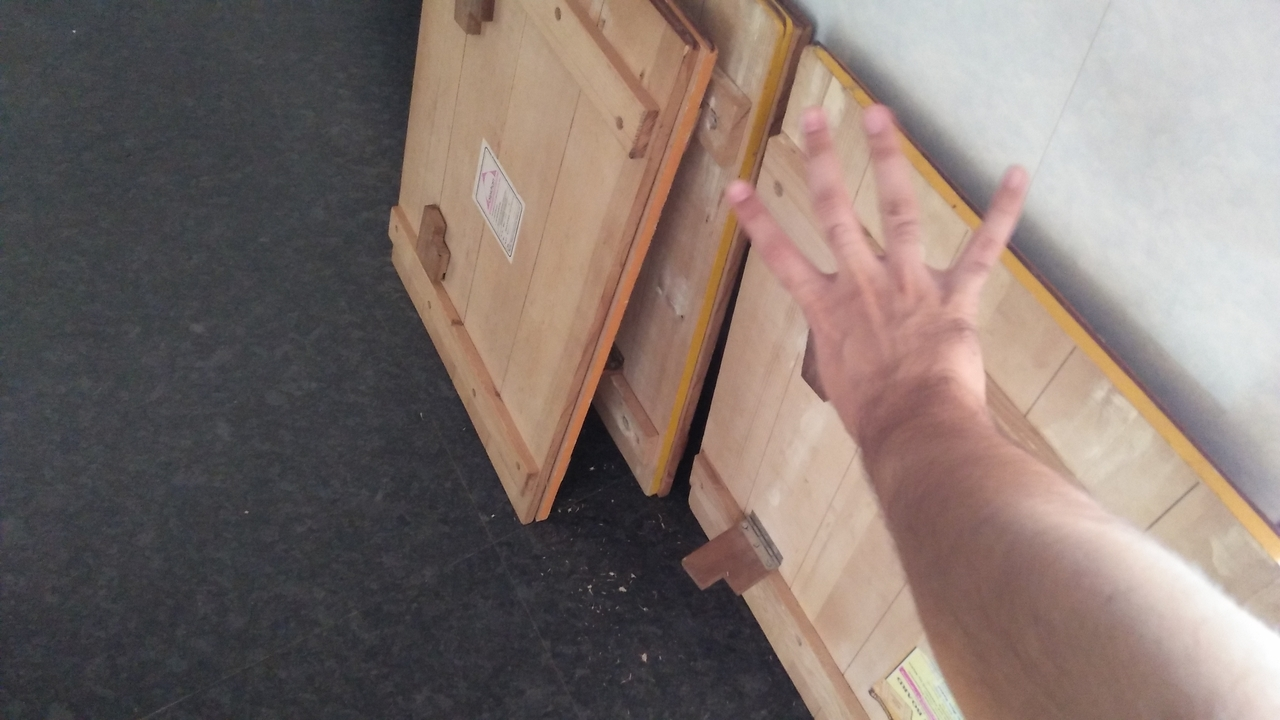fingertip: (712, 168, 764, 220), (792, 86, 840, 142), (990, 154, 1048, 200), (860, 99, 919, 140)
